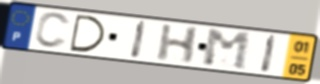C: (32, 11, 73, 51)
D: (68, 13, 108, 54)
H: (154, 23, 202, 66)
I: (259, 33, 280, 76), (129, 19, 150, 61)
M: (202, 28, 252, 72)
